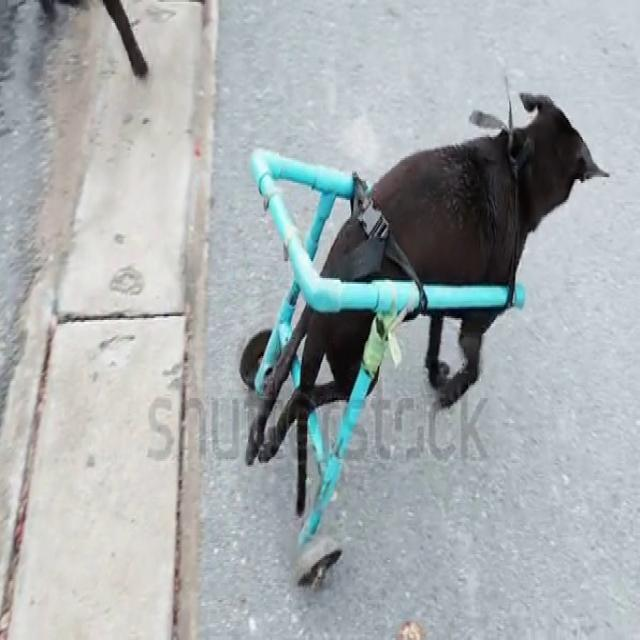injured-animals: (235, 78, 611, 591)
